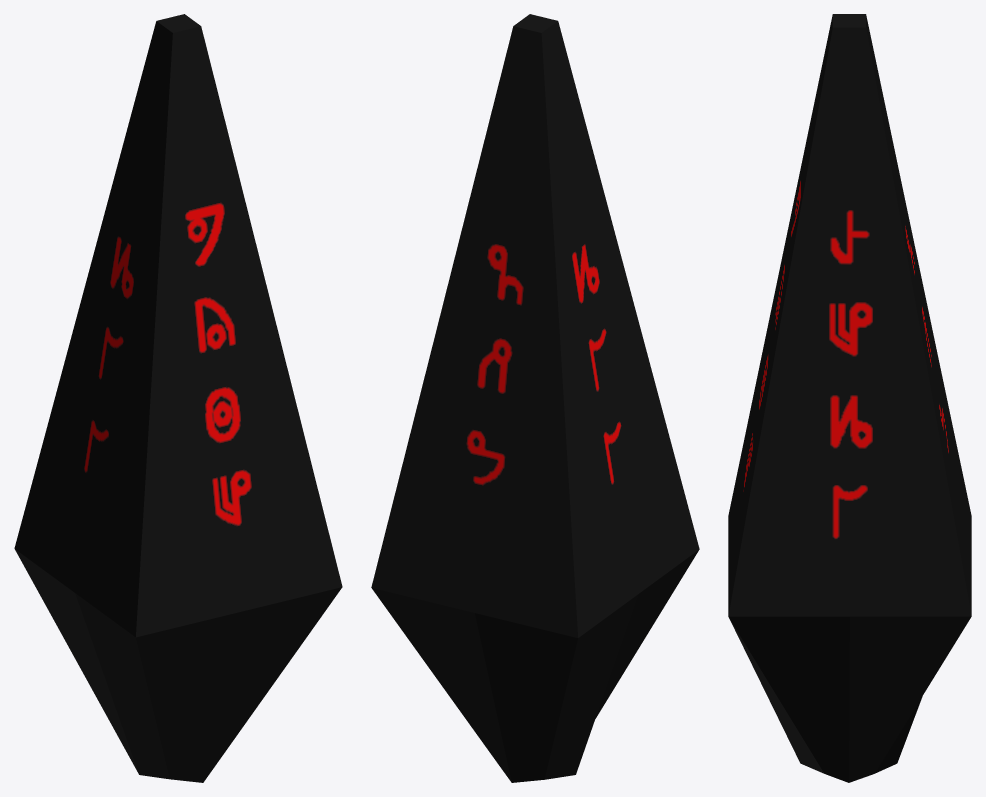
File: Obelisk_1.fbx
3 renders of one model, left to right at view 1: azimuth 30°, elevation 25°; view 2: azimuth 150°, elevation 25°; view 3: azimuth 270°, elevation 25°, orthographic.
Parts seen in each view (by area): view 1: Cube; view 2: Cube; view 3: Cube.
Part boxes in pixels (x1,y1,x2,y2): Cube: (14, 14, 342, 782); Cube: (371, 14, 699, 782); Cube: (728, 14, 971, 782).
Bounding box in the file's own units: 163 × 557 × 165.
Materials: 1 (1 with a texture image).
